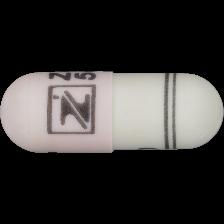63629-4792: (0, 0, 224, 224)
